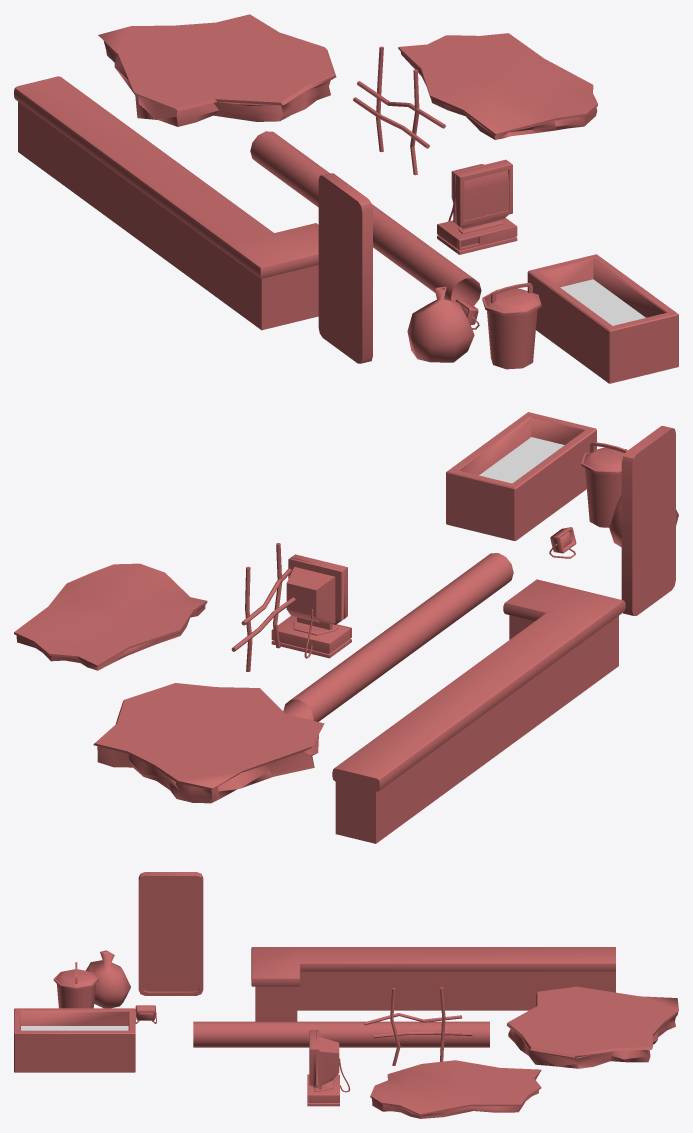
File: SetAssets15.fbx
3 views of the same model, one above another, from view 1: azimuth 30°, elevation 25°; view 2: azimuth 150°, elevation 25°; view 3: azimuth 270°, elevation 25° (orthographic). The views are drawn at different scales.
Visible parts, largest first — view 1: Bar_Restaurant, MSH_bloc_plafond_02, MSH_bloc_plafond_01, MSH_pot_en_beton_01, MSH_panneaux_publicitaire_mural_01, BarreBois, MSH__poubelle_05, PCTower, MSH__sac_poubelle_03, MSH_structure_metalique_casse_01, Screen, Plane005; view 2: Bar_Restaurant, MSH_bloc_plafond_02, MSH_bloc_plafond_01, MSH_pot_en_beton_01, MSH_panneaux_publicitaire_mural_01, BarreBois, PCTower, MSH__poubelle_05, Plane005, MSH_structure_metalique_casse_01; view 3: Bar_Restaurant, MSH_bloc_plafond_02, MSH_panneaux_publicitaire_mural_01, MSH_bloc_plafond_01, MSH_pot_en_beton_01, BarreBois, PCTower, MSH__sac_poubelle_03, MSH__poubelle_05, MSH_structure_metalique_casse_01, Plane005.
Boxes of the visible parts, x1,y1,x2,y2 form: Bar_Restaurant: [14, 76, 318, 330]; MSH_bloc_plafond_02: [98, 14, 336, 126]; MSH_bloc_plafond_01: [398, 33, 597, 139]; MSH_pot_en_beton_01: [527, 254, 678, 383]; MSH_panneaux_publicitaire_mural_01: [318, 173, 372, 363]; BarreBois: [250, 131, 481, 305]; MSH__poubelle_05: [482, 283, 541, 369]; PCTower: [437, 159, 517, 254]; MSH__sac_poubelle_03: [407, 286, 474, 362]; MSH_structure_metalique_casse_01: [353, 46, 445, 175]; Screen: [464, 170, 508, 220]; Plane005: [560, 279, 645, 325]; Bar_Restaurant: [332, 579, 625, 843]; MSH_bloc_plafond_02: [93, 683, 324, 803]; MSH_bloc_plafond_01: [14, 563, 207, 670]; MSH_pot_en_beton_01: [446, 412, 596, 540]; MSH_panneaux_publicitaire_mural_01: [621, 426, 675, 615]; BarreBois: [283, 553, 513, 721]; PCTower: [271, 554, 351, 658]; MSH__poubelle_05: [581, 442, 627, 527]; Plane005: [479, 437, 564, 483]; MSH_structure_metalique_casse_01: [231, 543, 295, 671]; Bar_Restaurant: [251, 947, 615, 1021]; MSH_bloc_plafond_02: [506, 986, 678, 1068]; MSH_panneaux_publicitaire_mural_01: [138, 872, 203, 995]; MSH_bloc_plafond_01: [370, 1060, 541, 1118]; MSH_pot_en_beton_01: [14, 1008, 135, 1072]; BarreBois: [193, 1021, 489, 1047]; PCTower: [307, 1030, 350, 1106]; MSH__sac_poubelle_03: [86, 950, 130, 1008]; MSH__poubelle_05: [53, 962, 98, 1008]; MSH_structure_metalique_casse_01: [364, 987, 472, 1065]; Plane005: [21, 1026, 128, 1030].
Bounding box in the file's own units: 814 × 324 × 1420.
